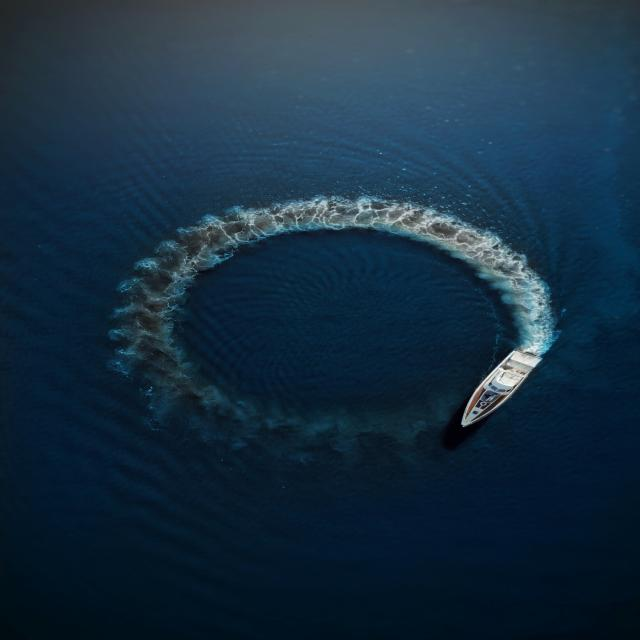ship: (443, 337, 556, 430)
